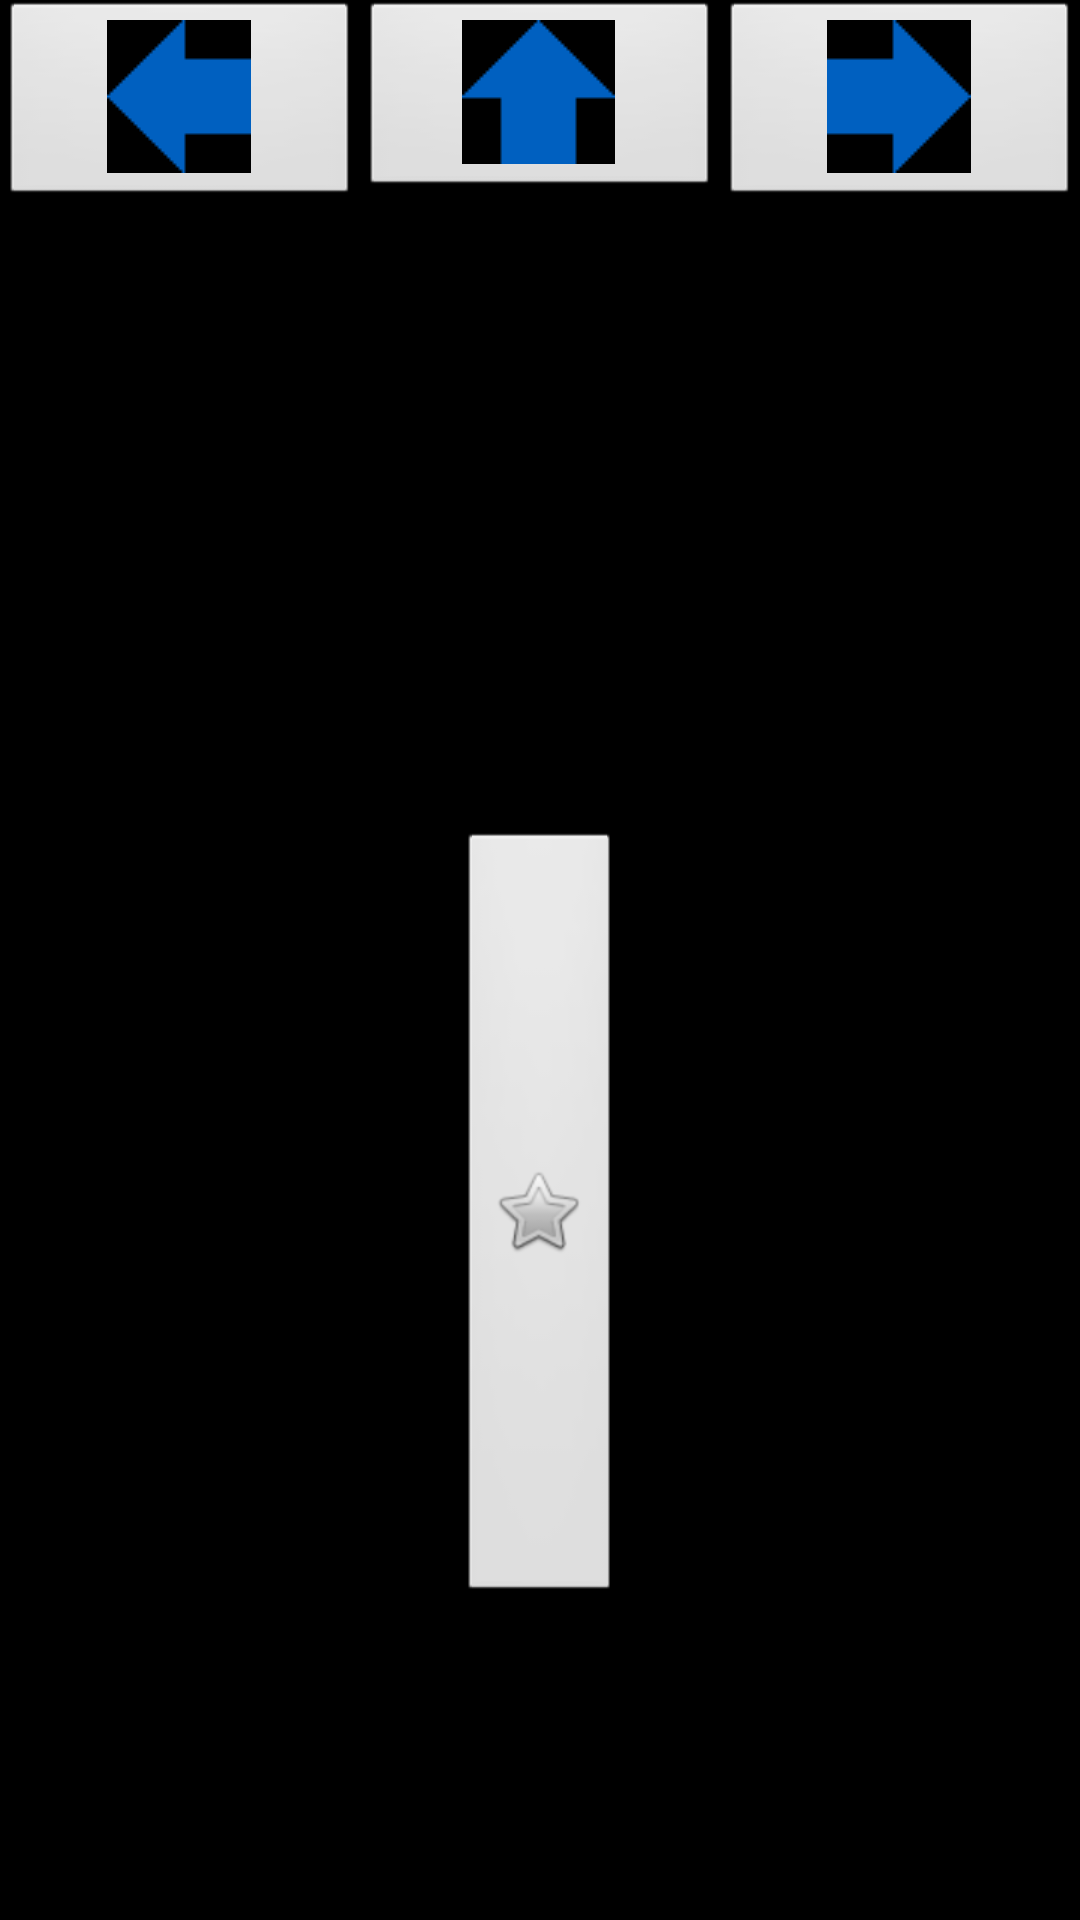

Where icons sit on this 1080*1920 app screen, as {"left": x1, "top": y1, "right": x2, "bottom": y2}:
Next: {"left": 730, "top": 3, "right": 1068, "bottom": 192}
Previous: {"left": 10, "top": 3, "right": 348, "bottom": 192}
